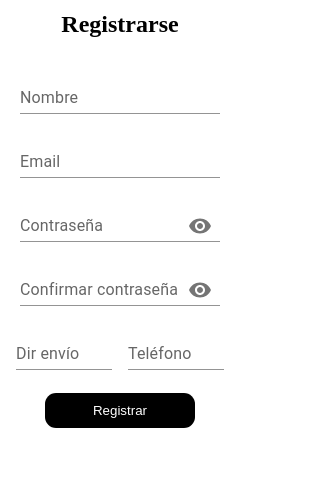
Test: Register component › U8F-003: Validación de campos obligatorios
Click the button "Registrar".
click(120, 410)  # box [45,393,195,428]
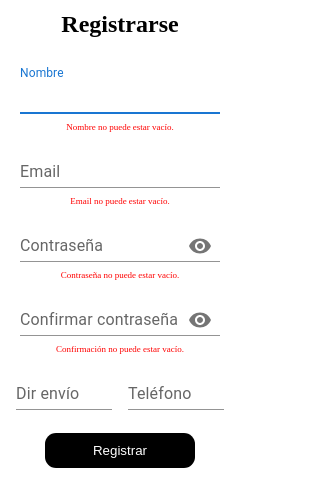
Check: the text with test id "EmailAlerts" shows "Email no puede estar vacío", box [70,196,170,206]
Check: the text with test id "NameAlerts" shows "Nombre no puede estar vacío", box [66,122,174,132]
Check: the text with test id "PasswordAlerts" shows "Contraseña no puede estar vacío", box [61,270,179,280]
